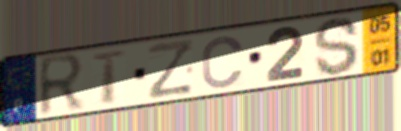2: (265, 24, 308, 86)
C: (200, 33, 246, 90)
R: (36, 51, 88, 120)
S: (312, 15, 361, 78)
T: (89, 48, 130, 106)
Z: (147, 37, 196, 102)
